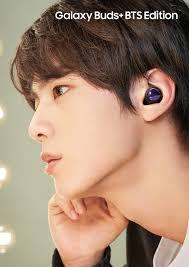earphone: (141, 86, 164, 103)
